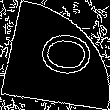O_W: (21, 29, 89, 81)
